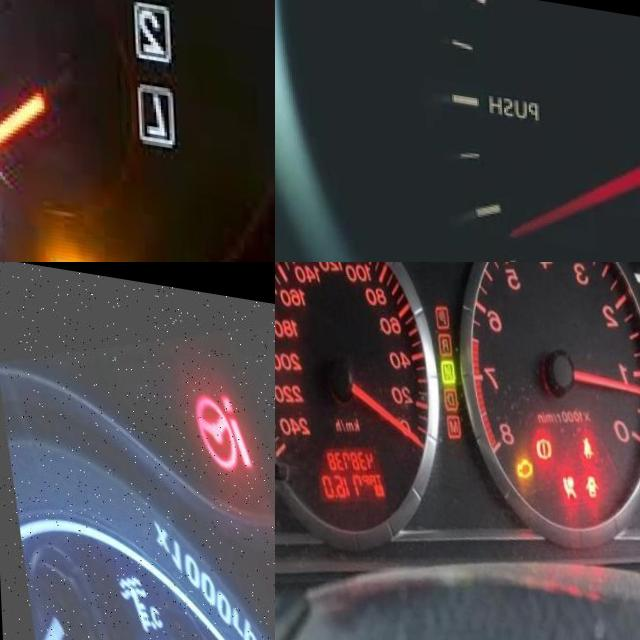Electronic Power Steering: (163, 347, 270, 499)
Seat Belt: (579, 419, 591, 446)
